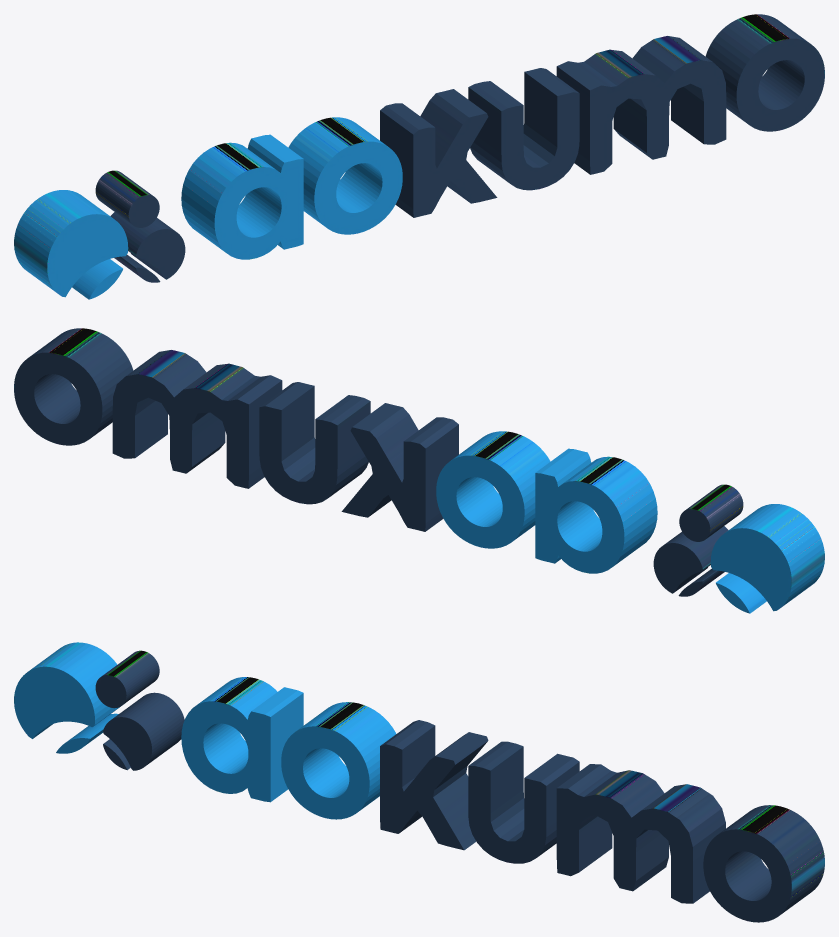
File: aokumo-inc.glb
3 views of the same model, one above another, from view 1: azimuth 30°, elevation 25°; view 2: azimuth 150°, elevation 25°; view 3: azimuth 330°, elevation 25° (orthographic).
Visible parts, largest first — view 1: Curve; view 2: Curve; view 3: Curve.
Boxes of the visible parts, x1,y1,x2,y2 form: Curve: (14, 14, 824, 299); Curve: (14, 328, 824, 613); Curve: (14, 642, 824, 922).
Size of the model in its own units: 0.0677 by 0.00758 by 0.005.
1 material, 1 textured.
